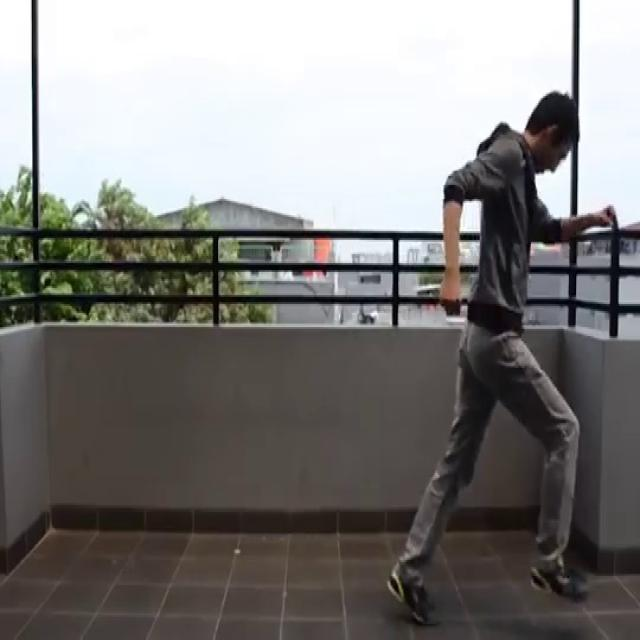normal: (388, 82, 622, 610)
